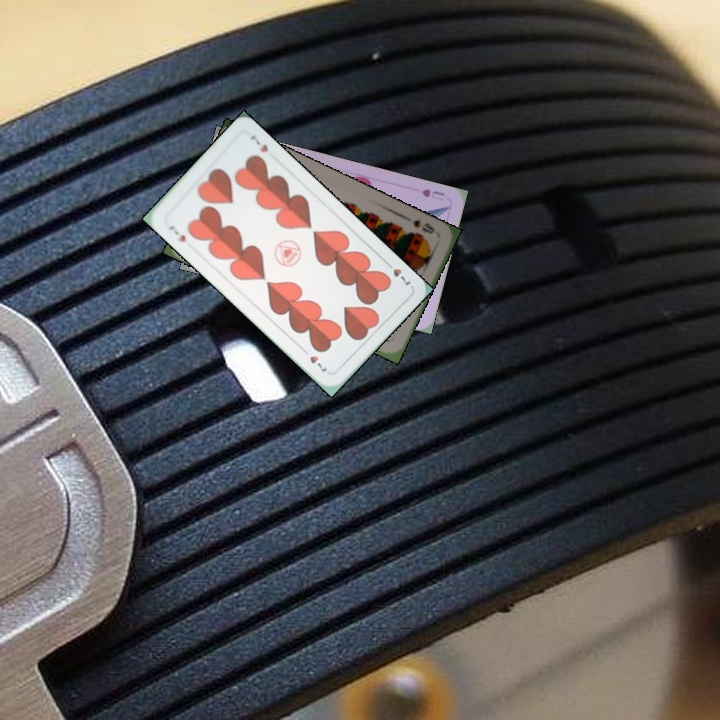H7: (381, 257, 413, 288), (164, 221, 188, 245)
HU: (417, 185, 447, 203)
S8: (409, 214, 437, 236)
